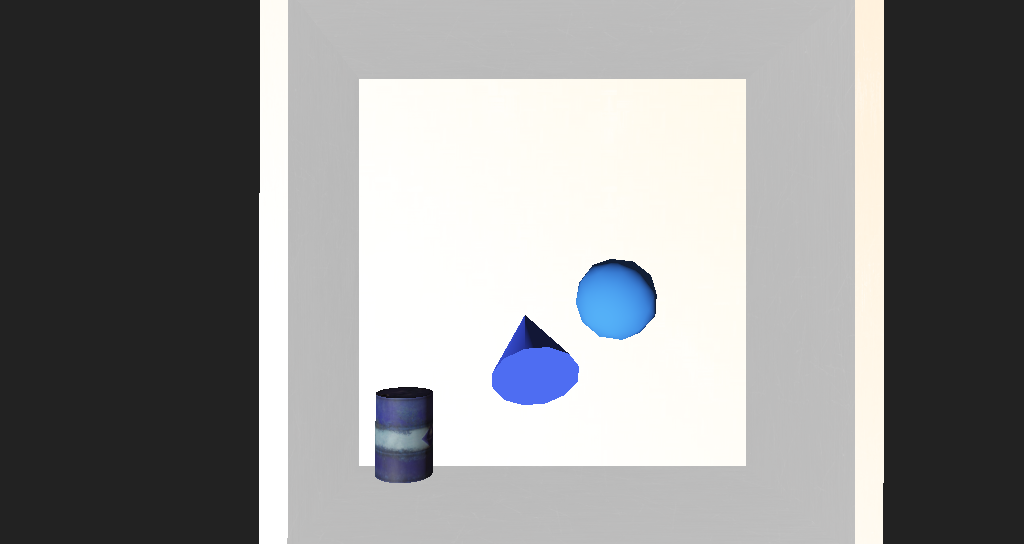cone: (364, 332, 418, 384)
cylinder: (441, 272, 529, 348)
sphere: (519, 258, 586, 305)
